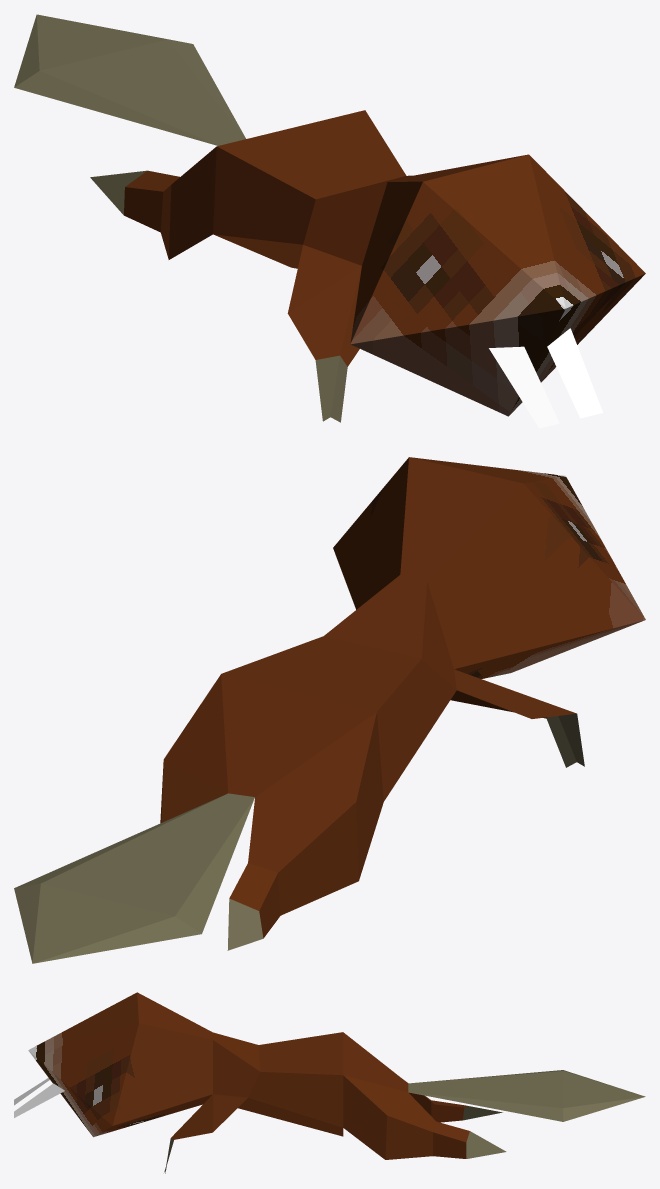
The model's file is beaver.obj.
3 renders of one model, top to bottom at view 1: azimuth 30°, elevation 25°; view 2: azimuth 150°, elevation 25°; view 3: azimuth 270°, elevation 25°, orthographic. The views are drawn at different scales.
Visible parts, largest first — view 1: body, head; view 2: body, head; view 3: body, head.
Boxes of the visible parts, box(x1,y1,x2,y2) form: body: box(14, 14, 602, 428); head: box(350, 154, 645, 416); body: box(14, 574, 584, 963); head: box(333, 457, 645, 678); body: box(14, 1032, 645, 1173); head: box(28, 992, 212, 1137).
Bounding box in the file's own units: 2.17 × 1.71 × 6.73.
2 materials, 2 textured.
